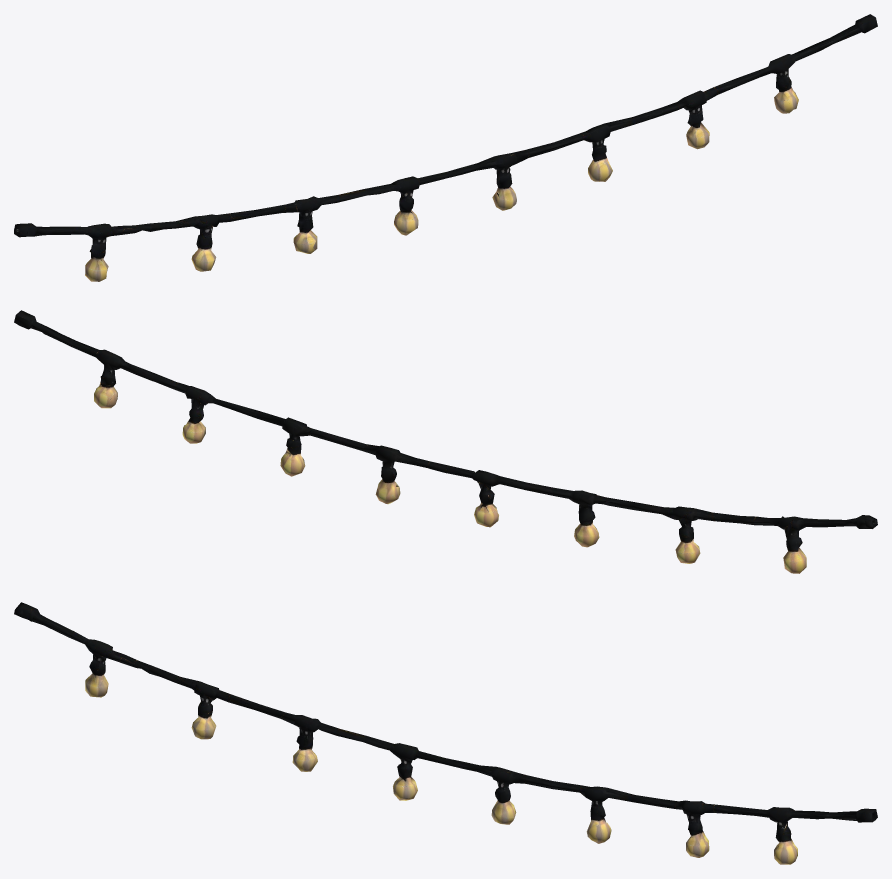
File: bunting_lod1.glb
The picture shows the model from 3 angles, top to bottom: view 1: azimuth 30°, elevation 25°; view 2: azimuth 150°, elevation 25°; view 3: azimuth 330°, elevation 25°; orthographic projection.
Parts seen in each view (by area): view 1: mesh_node; view 2: mesh_node; view 3: mesh_node.
Boxes of the visible parts, x1,y1,x2,y2 form: mesh_node: (14,14,877,281); mesh_node: (14,310,877,573); mesh_node: (14,602,877,864).
Size of the model in its own units: 1.9 by 0.2181 by 0.0527.
1 material, 1 textured.
